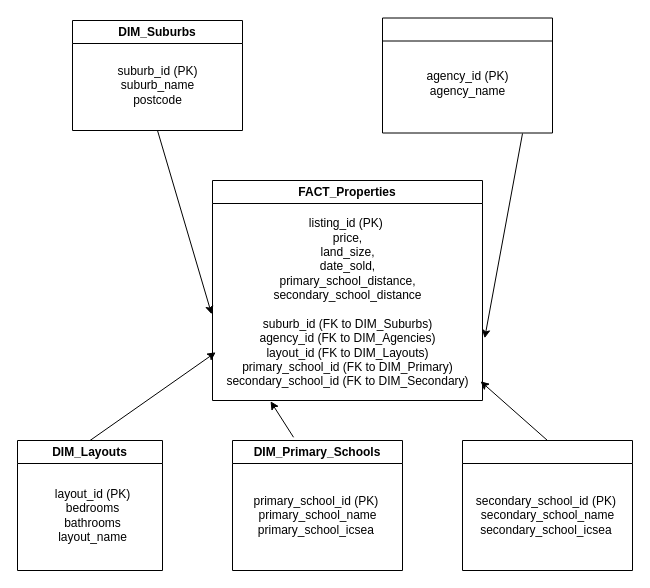
This 650x588 diagram has some shape labels left out. The shapes that lost their labels are listed below. From the top down, each one's box as (x1, y1, x2, y2) in pixels, then its label:
(382, 17, 552, 133): DIM_Agencies
(462, 440, 632, 570): DIM_Secondary_Schools
